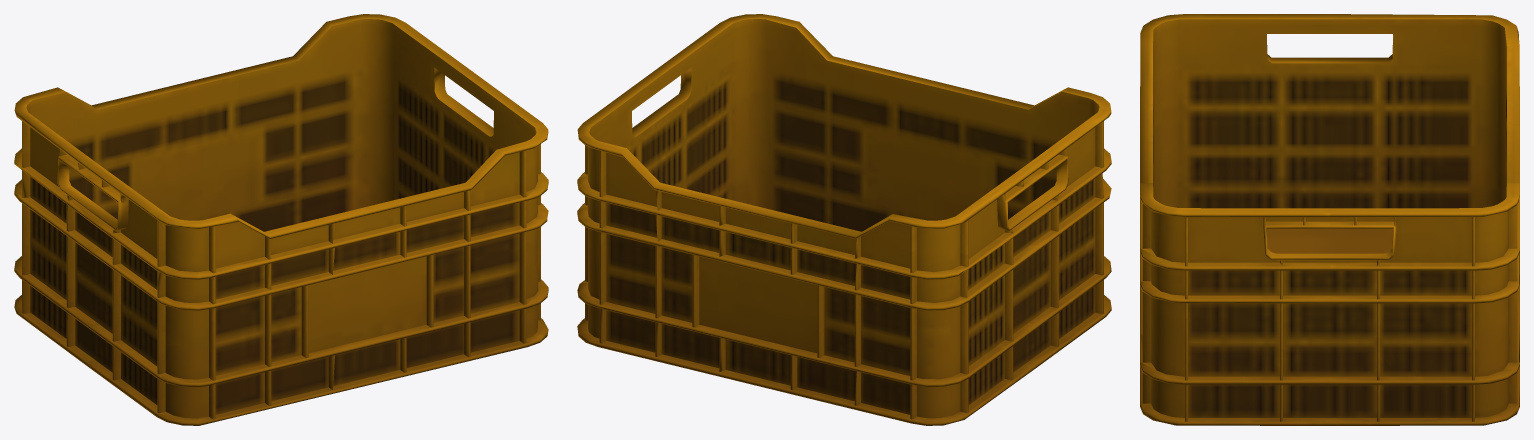
Rendered from plastic_crate_02.glb.
3 views of the same model, side by side, from view 1: azimuth 30°, elevation 25°; view 2: azimuth 150°, elevation 25°; view 3: azimuth 270°, elevation 25° (orthographic). The views are drawn at different scales.
Parts seen in each view (by area): view 1: plastic_crate_02; view 2: plastic_crate_02; view 3: plastic_crate_02.
Part boxes in pixels (bbox=[...]): plastic_crate_02: bbox=[14, 14, 548, 425]; plastic_crate_02: bbox=[577, 14, 1111, 425]; plastic_crate_02: bbox=[1140, 14, 1519, 425].
Bounding box in the file's own units: 0.5055 × 0.2541 × 0.4055.
Materials: 1 (1 with a texture image).
